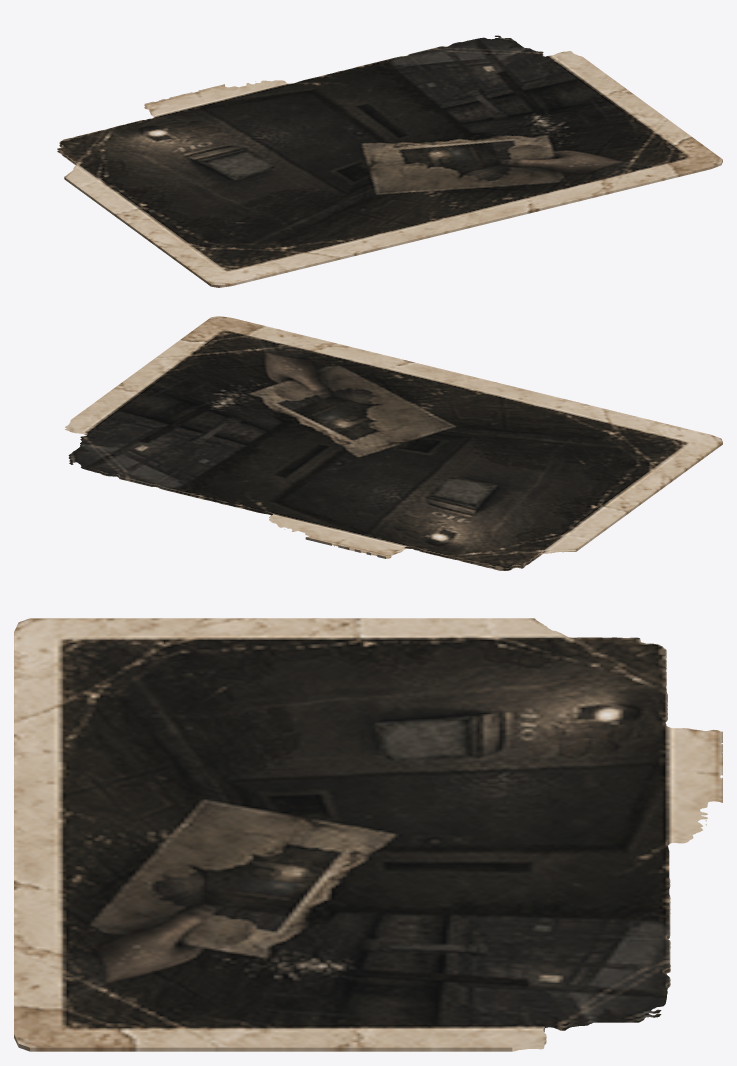
File: I_Photo.fbx
3 views of the same model, one above another, from view 1: azimuth 30°, elevation 25°; view 2: azimuth 150°, elevation 25°; view 3: azimuth 270°, elevation 25° (orthographic). The views are drawn at different scales.
Visible parts, largest first — view 1: I_Photo; view 2: I_Photo; view 3: I_Photo.
Part boxes in pixels (x1,y1,x2,y2): I_Photo: [57, 35, 722, 287]; I_Photo: [65, 316, 722, 570]; I_Photo: [14, 618, 722, 1051].
Bounding box in the file's own units: 24.56 × 0.1057 × 17.14.
1 material, 1 textured.
